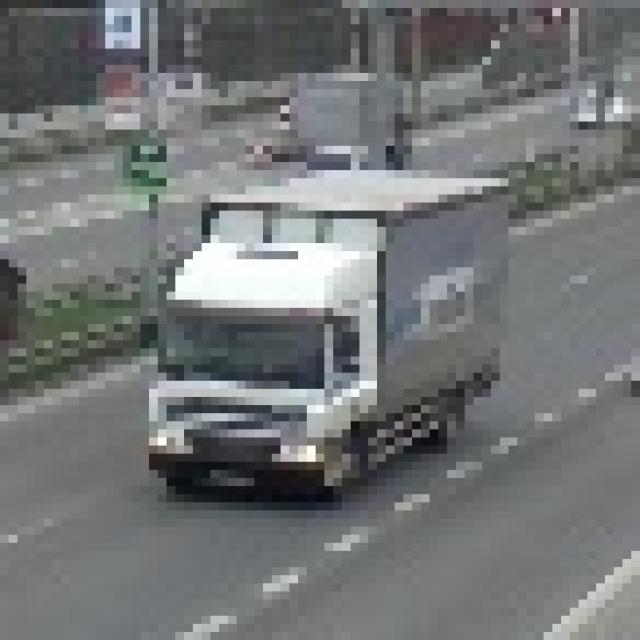truck: (131, 162, 491, 494)
